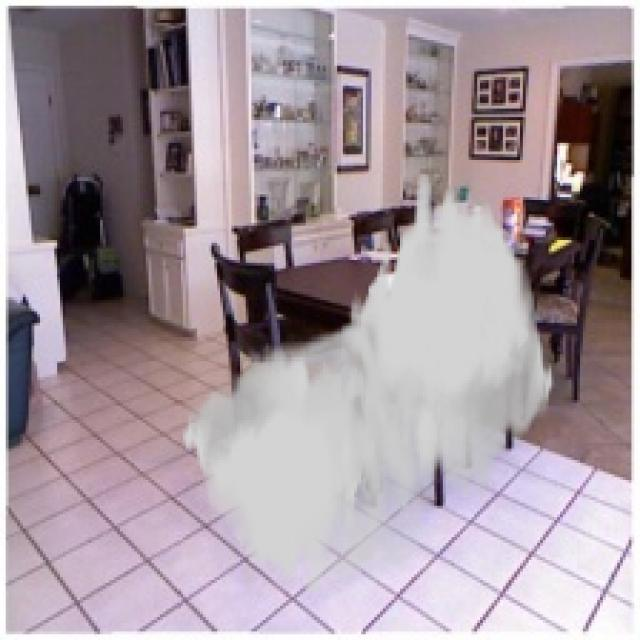smoke: (180, 175, 554, 594)
